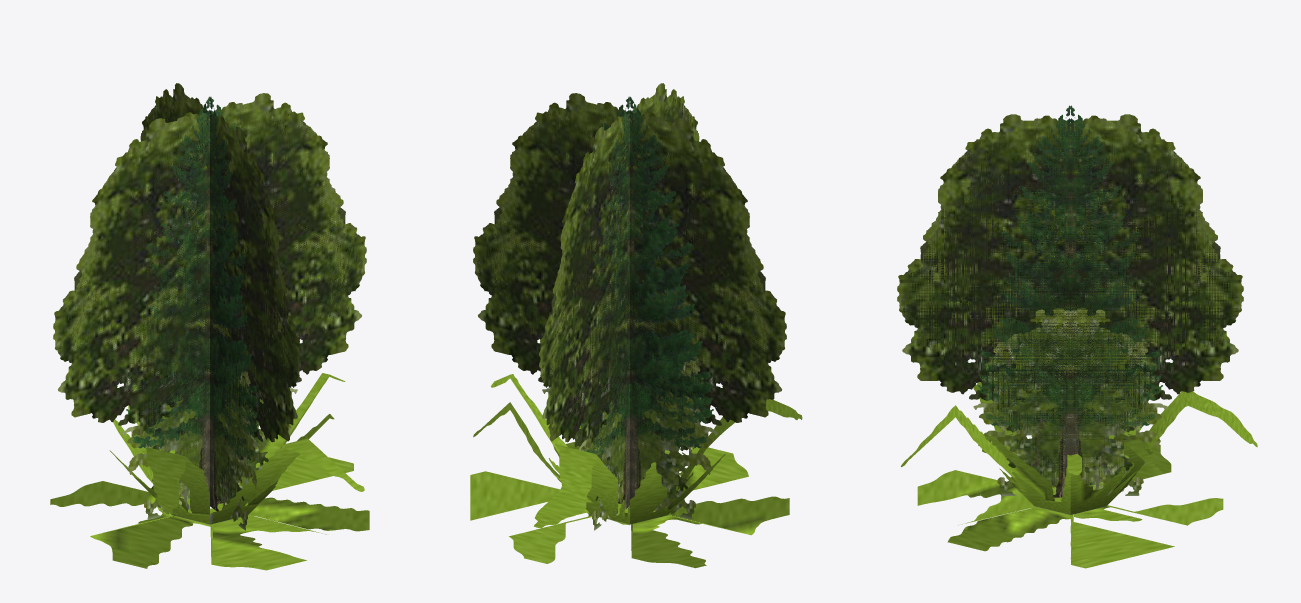
Rendered from PlantMeshes.fbx.
3 renders of one model, left to right at view 1: azimuth 30°, elevation 25°; view 2: azimuth 150°, elevation 25°; view 3: azimuth 270°, elevation 25°, orthographic. The views are drawn at different scales.
Parts seen in each view (by area): view 1: pPlane1 (×3), pPlane2 (×3), pPlane3 (×3), GrassMesh, pPlane4 (×3); view 2: pPlane1 (×3), pPlane2 (×3), pPlane3 (×3), GrassMesh, pPlane4 (×3); view 3: pPlane3 (×3), pPlane4 (×3), GrassMesh.
Part boxes in pixels (x1,y1,x2,y2): pPlane1 (×3): (53, 93, 363, 509); pPlane2 (×3): (56, 97, 366, 519); pPlane3 (×3): (140, 96, 298, 530); GrassMesh: (50, 373, 369, 570); pPlane4 (×3): (150, 83, 300, 519); pPlane1 (×3): (476, 93, 786, 510); pPlane2 (×3): (473, 97, 783, 519); pPlane3 (×3): (539, 83, 690, 519); GrassMesh: (470, 374, 802, 568); pPlane4 (×3): (541, 96, 699, 530); pPlane3 (×3): (900, 105, 1243, 497); pPlane4 (×3): (897, 105, 1240, 497); GrassMesh: (901, 382, 1257, 568).
Bounding box in the file's own units: 2 × 2 × 2.
